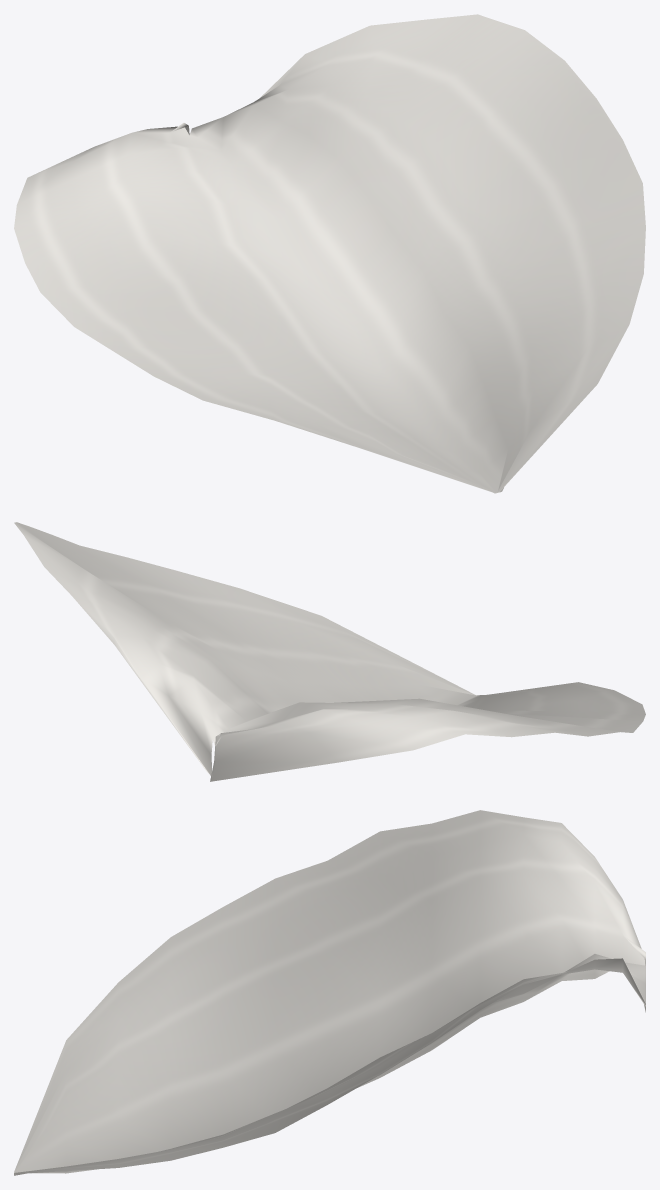
Rendered from petal_13_folded.glb.
3 renders of one model, top to bottom at view 1: azimuth 30°, elevation 25°; view 2: azimuth 150°, elevation 25°; view 3: azimuth 270°, elevation 25°, orthographic. The views are drawn at different scales.
Parts seen in each view (by area): view 1: petal_13_folded; view 2: petal_13_folded; view 3: petal_13_folded.
Part boxes in pixels (bbox=[...]): petal_13_folded: bbox=[14, 14, 645, 493]; petal_13_folded: bbox=[14, 522, 645, 781]; petal_13_folded: bbox=[14, 810, 645, 1175].
Size of the model in its own units: 0.0823 by 0.0373 by 0.0707.
Materials: 1 (1 with a texture image).
